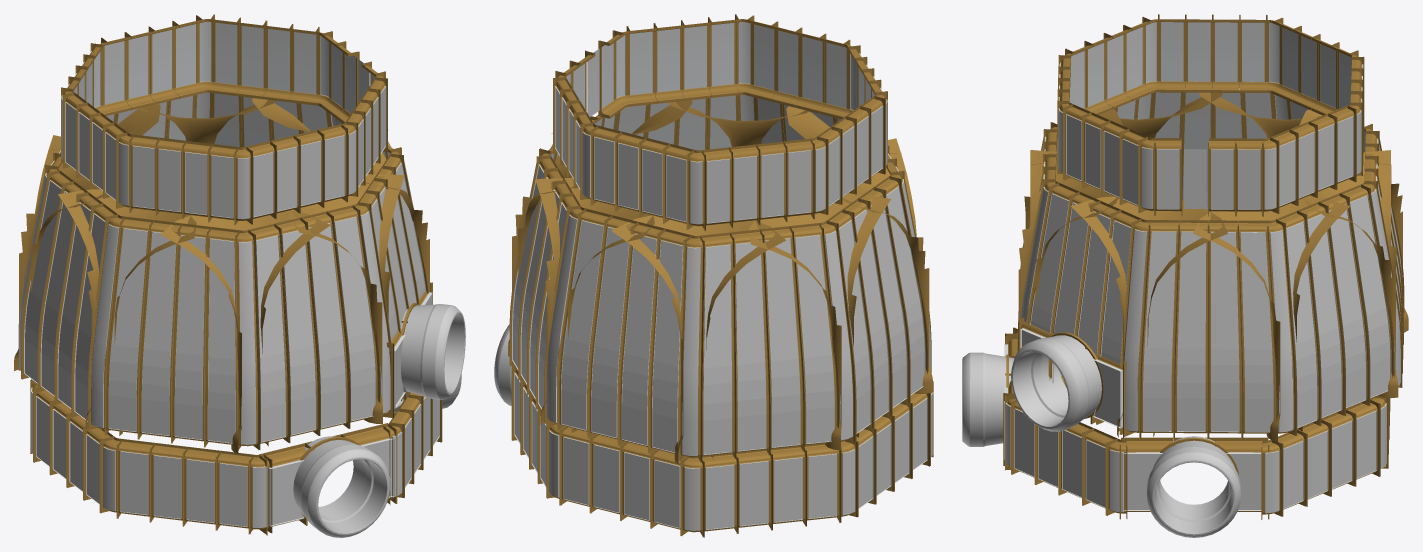
File: TowerInterior3.fbx
3 views of the same model, side by side, from view 1: azimuth 30°, elevation 25°; view 2: azimuth 150°, elevation 25°; view 3: azimuth 270°, elevation 25° (orthographic). The views are drawn at different scales.
Visible parts, largest first — view 1: Cube.042; view 2: Cube.042; view 3: Cube.042.
Part boxes in pixels (bbox=[...]): Cube.042: bbox=[14, 14, 465, 537]; Cube.042: bbox=[494, 14, 933, 537]; Cube.042: bbox=[962, 14, 1408, 537].
Size of the model in its own units: 10228 by 9383 by 10478.
